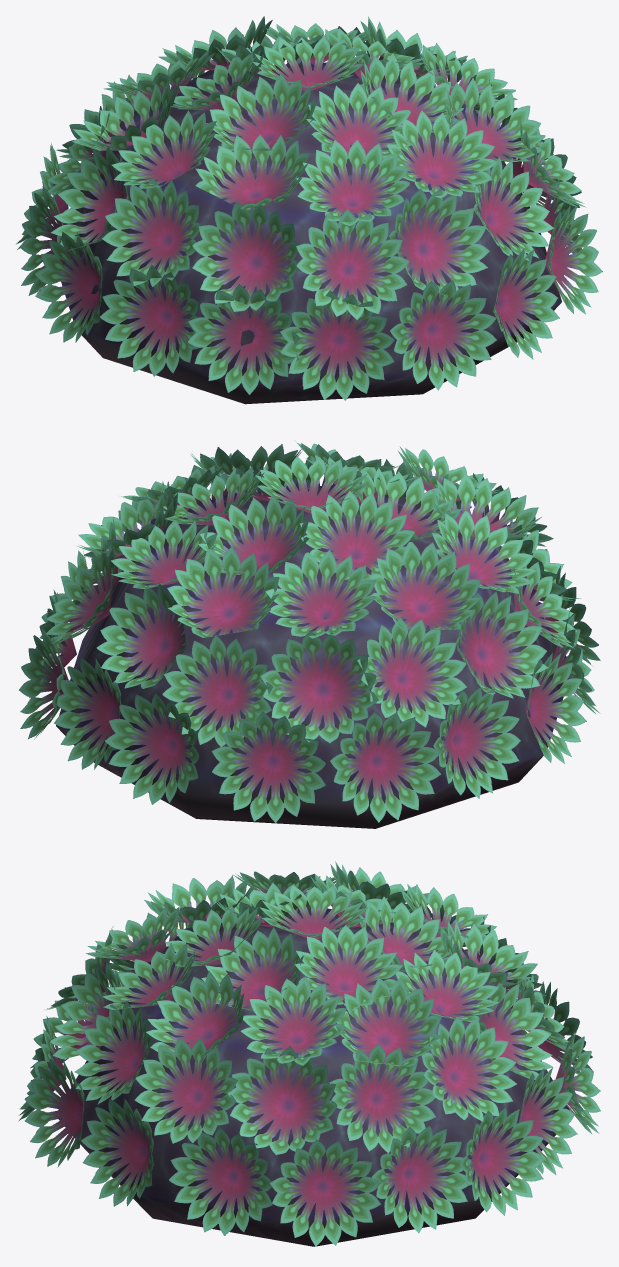
Rendered from Coral_16a.FBX.
3 views of the same model, one above another, from view 1: azimuth 30°, elevation 25°; view 2: azimuth 150°, elevation 25°; view 3: azimuth 270°, elevation 25° (orthographic). The views are drawn at different scales.
Parts seen in each view (by area): view 1: Coral_16a; view 2: Coral_16a; view 3: Coral_16a.
Part boxes in pixels (bbox=[...]): Coral_16a: bbox=[16, 16, 602, 404]; Coral_16a: bbox=[19, 440, 600, 828]; Coral_16a: bbox=[18, 861, 600, 1246].
Size of the model in its own units: 33.68 by 16.12 by 34.33.
